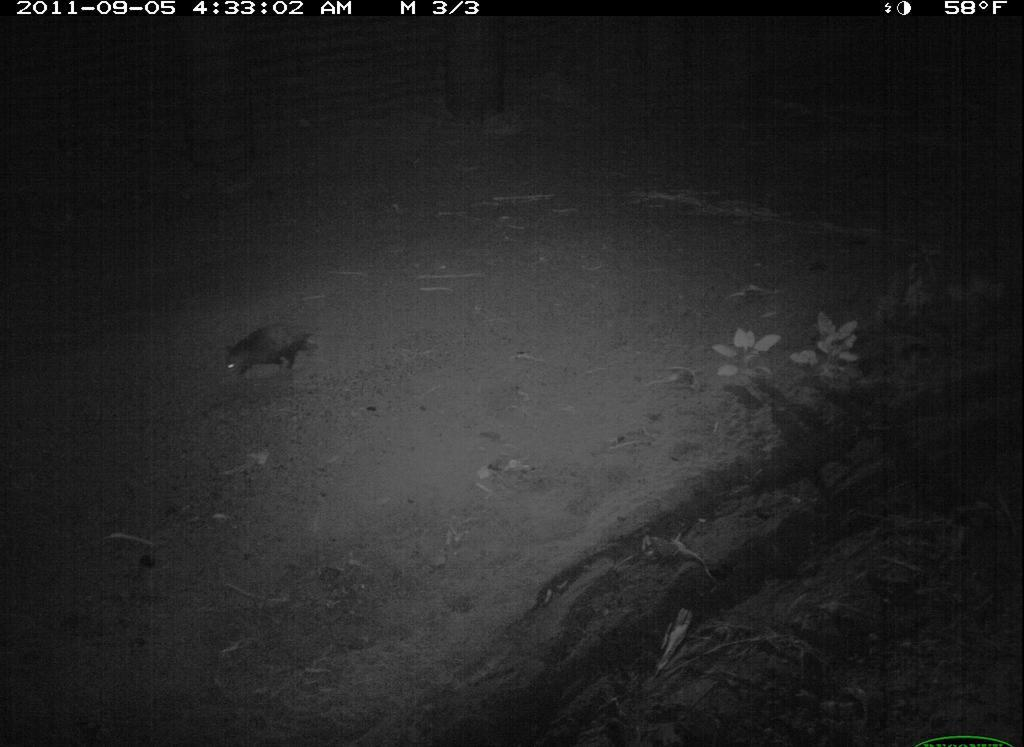opossum: (221, 310, 340, 387)
